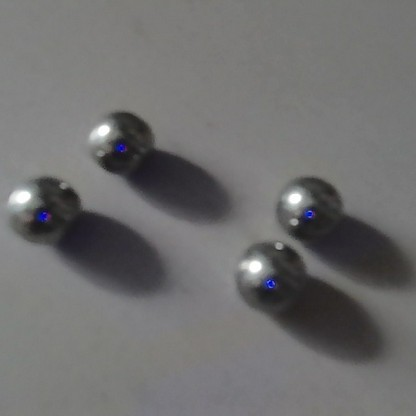ironball: (7, 179, 81, 244), (233, 241, 305, 307), (87, 109, 152, 175), (275, 174, 341, 238)
